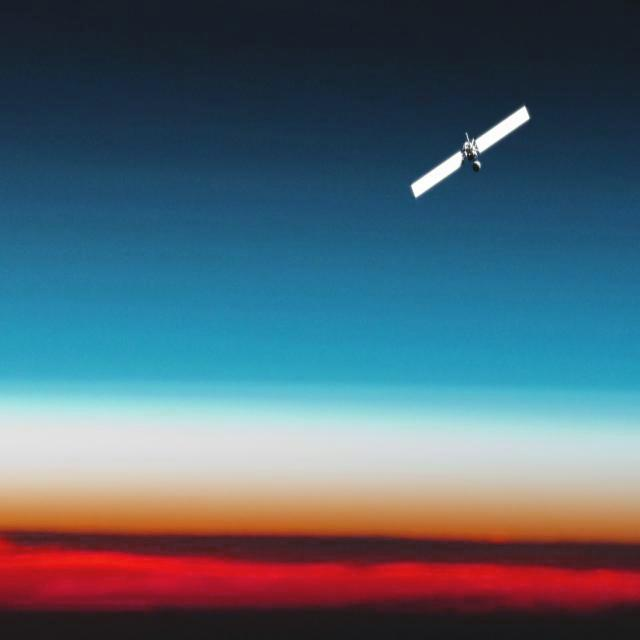satellite: (406, 101, 542, 206)
